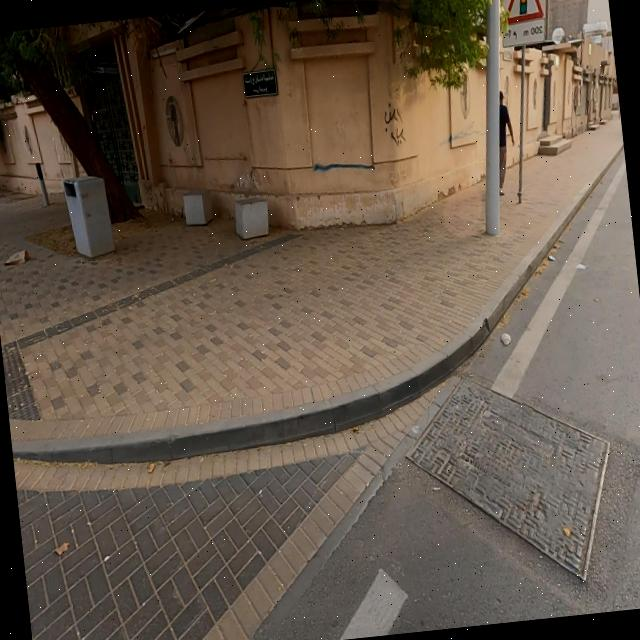Graffiti: (382, 103, 407, 149), (313, 158, 376, 176)
